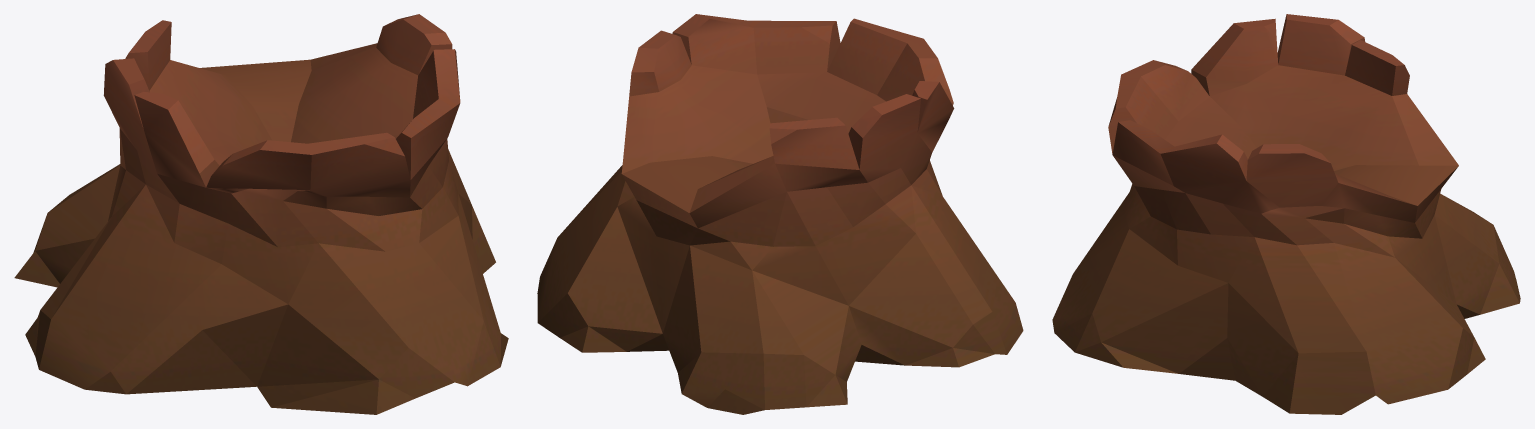
3 renders of one model, left to right at view 1: azimuth 30°, elevation 25°; view 2: azimuth 150°, elevation 25°; view 3: azimuth 270°, elevation 25°, orthographic. The views are drawn at different scales.
Visible parts, largest first — view 1: TreeTrunk2; view 2: TreeTrunk2; view 3: TreeTrunk2.
Part boxes in pixels (x1,y1,x2,y2): TreeTrunk2: [14, 14, 508, 414]; TreeTrunk2: [537, 14, 1023, 414]; TreeTrunk2: [1052, 14, 1520, 414].
Size of the model in its own units: 1.64 by 0.9705 by 1.61.
1 material, 1 textured.
